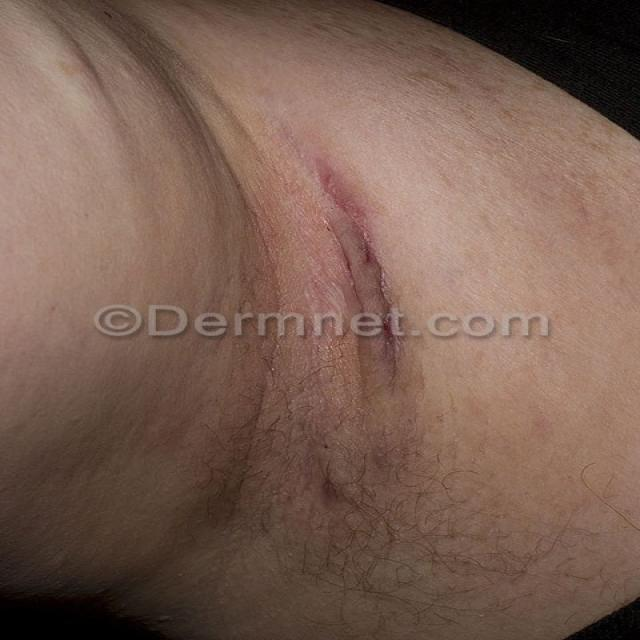Dry-Skin: (268, 170, 478, 363), (94, 1, 263, 123)
